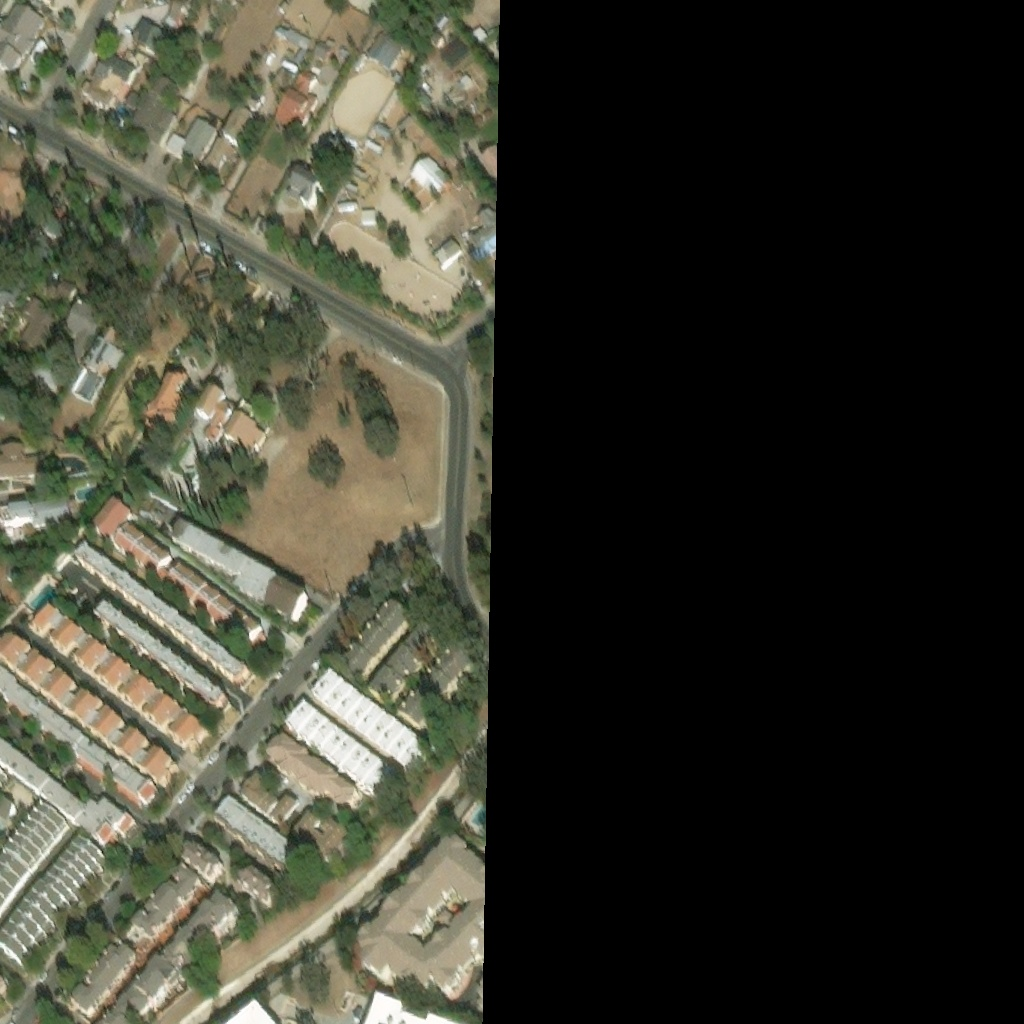0 no-damage: (0, 625, 179, 788), (28, 602, 210, 756), (71, 541, 253, 689), (353, 837, 483, 1000), (0, 665, 149, 807), (102, 895, 242, 1023), (169, 520, 311, 624), (97, 602, 228, 713), (107, 599, 228, 700), (313, 670, 428, 774), (287, 702, 395, 802), (165, 563, 266, 650), (265, 736, 361, 814), (215, 798, 306, 876), (128, 865, 204, 945), (70, 941, 137, 1017), (0, 123, 49, 225), (221, 148, 284, 219), (124, 72, 182, 144), (110, 518, 175, 579), (134, 367, 192, 435), (240, 774, 300, 832), (362, 615, 415, 680), (0, 2, 46, 76), (293, 815, 352, 867), (165, 115, 217, 165), (46, 388, 96, 438), (65, 297, 104, 361), (10, 495, 73, 531), (282, 0, 340, 38), (433, 644, 479, 690), (16, 294, 55, 348), (181, 840, 227, 885), (89, 497, 134, 543), (270, 89, 314, 136), (130, 18, 178, 61), (409, 153, 456, 196), (201, 396, 240, 447), (223, 414, 268, 458), (397, 695, 440, 737), (386, 647, 429, 687), (369, 668, 409, 709), (372, 599, 413, 639), (417, 670, 457, 710), (405, 624, 445, 664), (354, 621, 393, 661), (287, 165, 325, 206), (396, 172, 436, 210), (240, 870, 277, 911), (82, 65, 118, 107), (86, 339, 129, 374), (199, 135, 236, 175), (222, 103, 258, 144), (0, 442, 45, 474), (435, 33, 475, 69), (367, 32, 403, 67), (342, 643, 376, 679), (101, 52, 138, 84), (471, 204, 494, 255), (196, 385, 225, 422), (276, 26, 314, 53), (161, 0, 190, 34), (432, 234, 462, 266), (3, 521, 37, 545), (292, 69, 319, 97), (441, 80, 469, 107), (236, 1003, 272, 1023), (478, 138, 495, 175), (98, 825, 122, 850), (118, 815, 140, 839), (55, 278, 79, 300), (139, 785, 161, 808), (433, 12, 455, 35), (313, 42, 334, 62), (101, 326, 120, 347), (414, 85, 434, 104), (471, 24, 489, 43), (373, 121, 392, 138), (360, 207, 377, 222), (458, 69, 472, 86), (365, 138, 382, 151), (337, 46, 349, 64), (342, 200, 361, 208)
